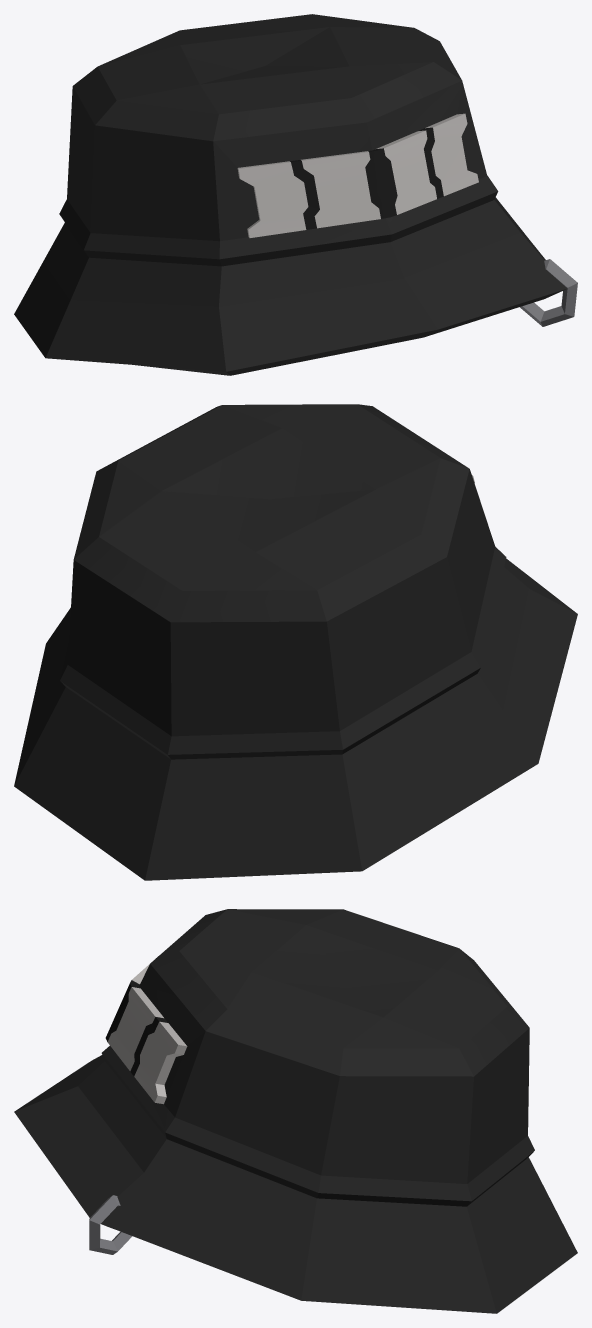
The model's file is SM_Chr_Attach_Hat_01.fbx.
The picture shows the model from 3 angles, top to bottom: view 1: azimuth 30°, elevation 25°; view 2: azimuth 150°, elevation 25°; view 3: azimuth 270°, elevation 25°; orthographic projection. The views are drawn at different scales.
Parts seen in each view (by area): view 1: SM_Chr_Attach_Hat_01; view 2: SM_Chr_Attach_Hat_01; view 3: SM_Chr_Attach_Hat_01.
Boxes of the visible parts, x1,y1,x2,y2 form: SM_Chr_Attach_Hat_01: (14,14,577,375); SM_Chr_Attach_Hat_01: (14,404,577,880); SM_Chr_Attach_Hat_01: (14,909,577,1313).
Size of the model in its own units: 39.43 by 24.58 by 41.61.
